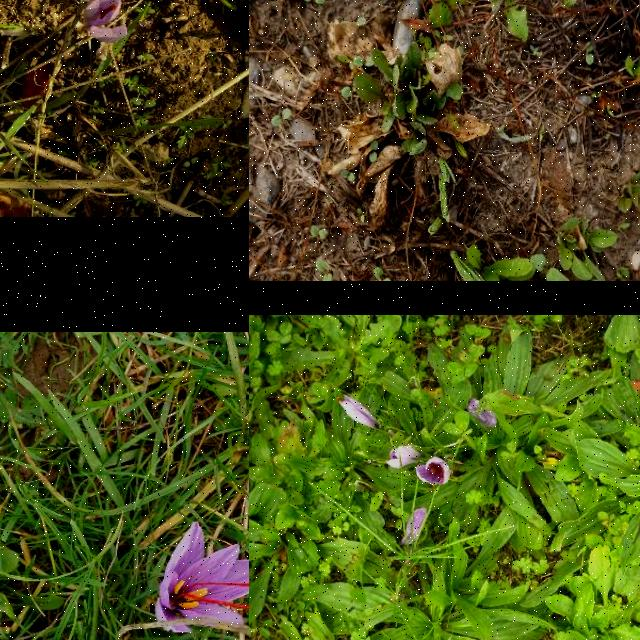flower: (154, 522, 249, 634), (82, 0, 127, 42), (337, 394, 381, 430), (417, 458, 451, 486), (386, 446, 422, 468)
